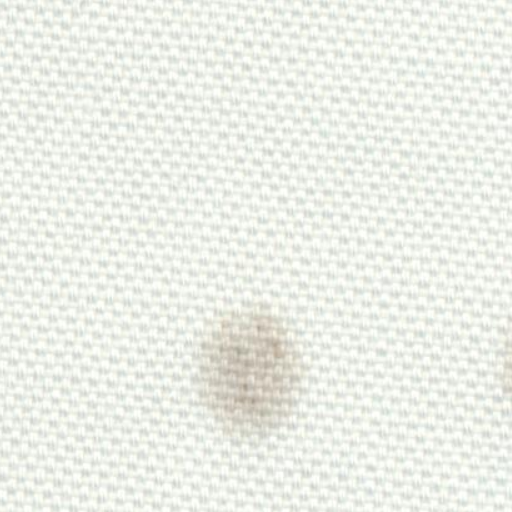WuZi: (172, 282, 330, 450)
